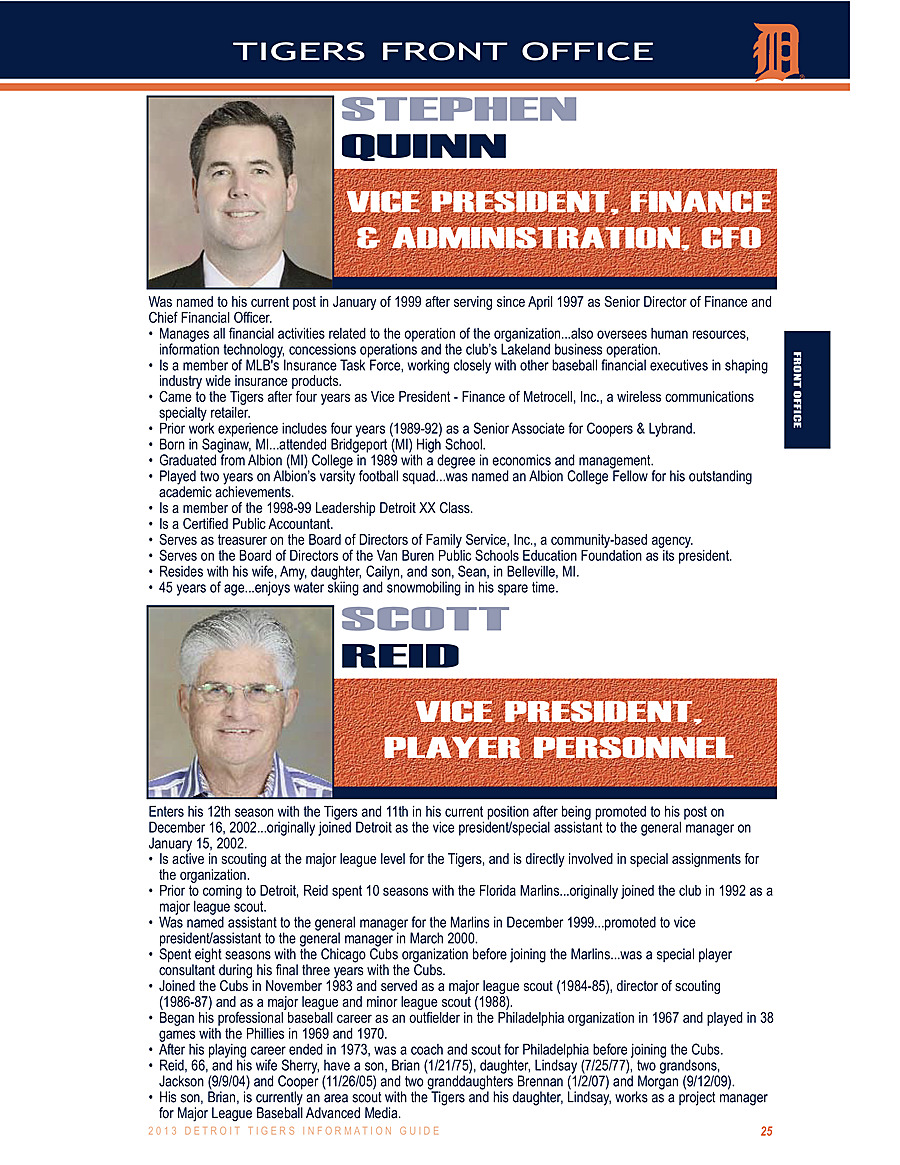caption: (334, 176, 770, 251), (374, 689, 748, 774)
figure: (142, 599, 336, 806), (142, 93, 327, 287), (785, 325, 840, 451), (748, 6, 810, 100)
list: (145, 848, 785, 1123), (145, 327, 767, 593)
section: (232, 26, 684, 72), (334, 94, 597, 157), (332, 600, 495, 672)
text: (142, 799, 776, 853), (140, 291, 778, 323)
